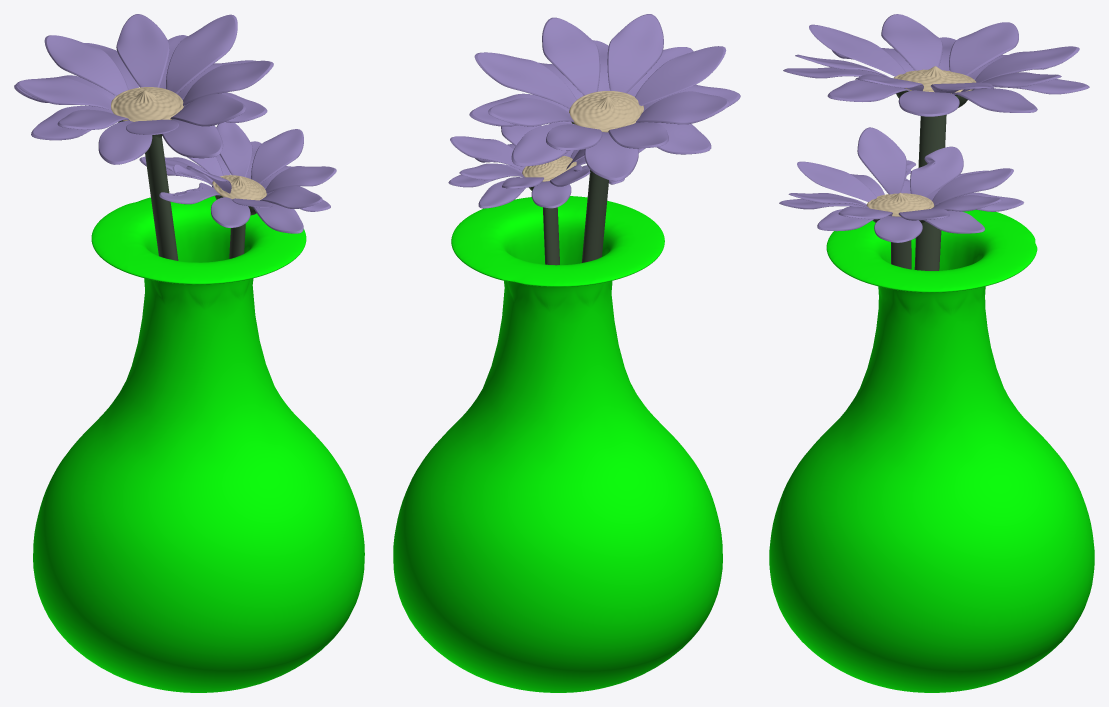
The model's file is vasewithflowers.fbx.
3 renders of one model, left to right at view 1: azimuth 30°, elevation 25°; view 2: azimuth 150°, elevation 25°; view 3: azimuth 270°, elevation 25°, orthographic. The views are drawn at different scales.
Visible parts, largest first — view 1: nurbsToPoly1, pPlane14 (×2), pPlane15 (×2), pPlane13 (×2), pSphere1 (×2), pPlane2 (×2), pPlane16, pPlane12 (×2), pPlane3 (×2), pCylinder1, pPlane17, pPlane9 (×2) (+3 smaller); view 2: nurbsToPoly1, pPlane14 (×2), pPlane12, pSphere1 (×2), pPlane13, pCylinder1 (×2), pPlane11, pPlane4 (×2), pPlane15 (×2), pPlane5 (×2), pPlane10, pPlane17 (+5 smaller); view 3: nurbsToPoly1, pPlane10 (×2), pPlane17 (×2), pPlane11 (×2), pPlane16 (×2), pCylinder1 (×2), pPlane6 (×2), pPlane7 (×2), pSphere1 (×2), pPlane8 (×2), pPlane15 (×2), pPlane2 (×2) (+3 smaller).
Boxes of the visible parts, x1,y1,x2,y2 form: nurbsToPoly1: (33,196,364,692); pPlane14 (×2): (166,14,303,183); pPlane15 (×2): (116,14,252,177); pPlane13 (×2): (183,60,336,193); pSphere1 (×2): (111,87,266,200); pPlane2 (×2): (161,119,303,233); pPlane16: (44,35,128,95); pPlane12 (×2): (170,94,322,208); pPlane3 (×2): (98,121,250,227); pCylinder1: (145,136,178,260); pPlane17: (16,78,111,109); pPlane9 (×2): (31,106,220,204); nurbsToPoly1: (393,196,722,692); pPlane14 (×2): (450,52,576,170); pPlane12: (607,14,663,93); pSphere1 (×2): (522,91,643,181); pPlane13: (542,17,600,95); pCylinder1 (×2): (543,170,608,265); pPlane11: (635,46,726,105); pPlane4 (×2): (531,132,638,208); pPlane15 (×2): (459,98,573,180); pPlane5 (×2): (478,122,575,208); pPlane10: (636,91,729,124); pPlane17: (608,122,668,148); nurbsToPoly1: (769,209,1094,692); pPlane10 (×2): (857,14,942,194); pPlane17 (×2): (910,22,1018,196); pPlane11 (×2): (797,24,906,202); pPlane16 (×2): (932,46,1079,205); pCylinder1 (×2): (891,114,946,270); pPlane6 (×2): (874,90,959,242); pPlane7 (×2): (923,88,1037,233); pSphere1 (×2): (866,66,976,216); pPlane8 (×2): (817,80,909,231); pPlane15 (×2): (931,72,1061,211); pPlane2 (×2): (779,67,881,209).
Bounding box in the file's own units: 15.42 × 30.01 × 14.62.
